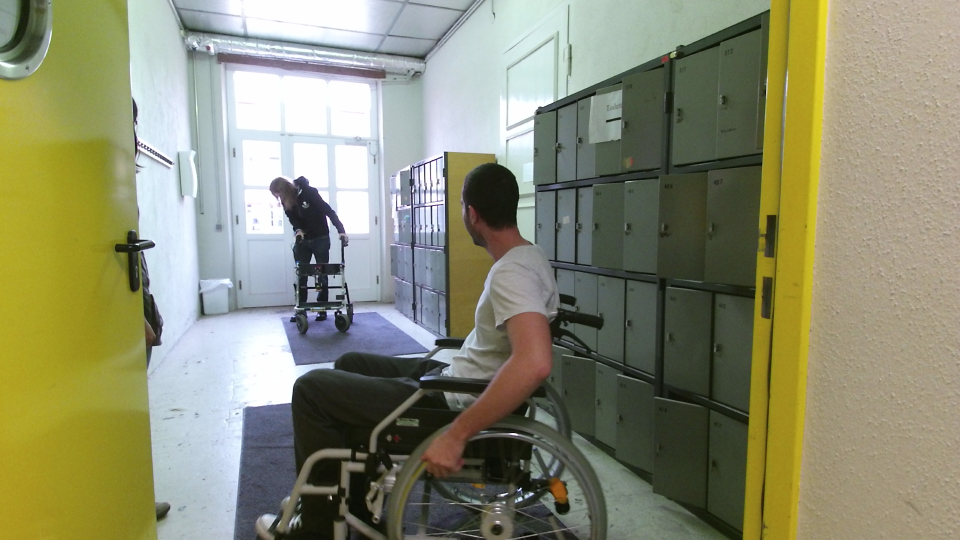wheelchair: (249, 156, 619, 540)
